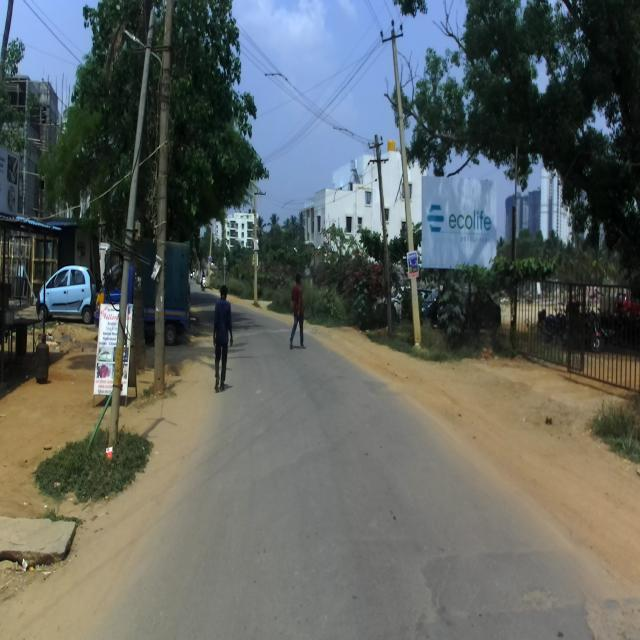electric pole ahead at: (155, 0, 177, 402)
person ahead at: (204, 277, 236, 399), (288, 267, 308, 349)
